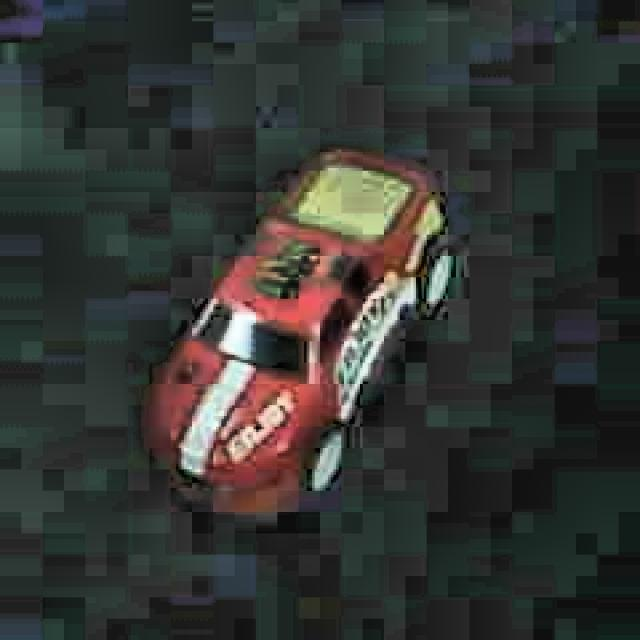car: (144, 138, 448, 517)
